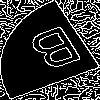B: (25, 25, 91, 81)
